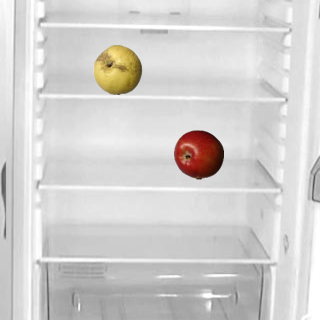Apple Braeburn: (173, 129, 223, 179)
Apple Golden 1: (92, 44, 142, 94)
